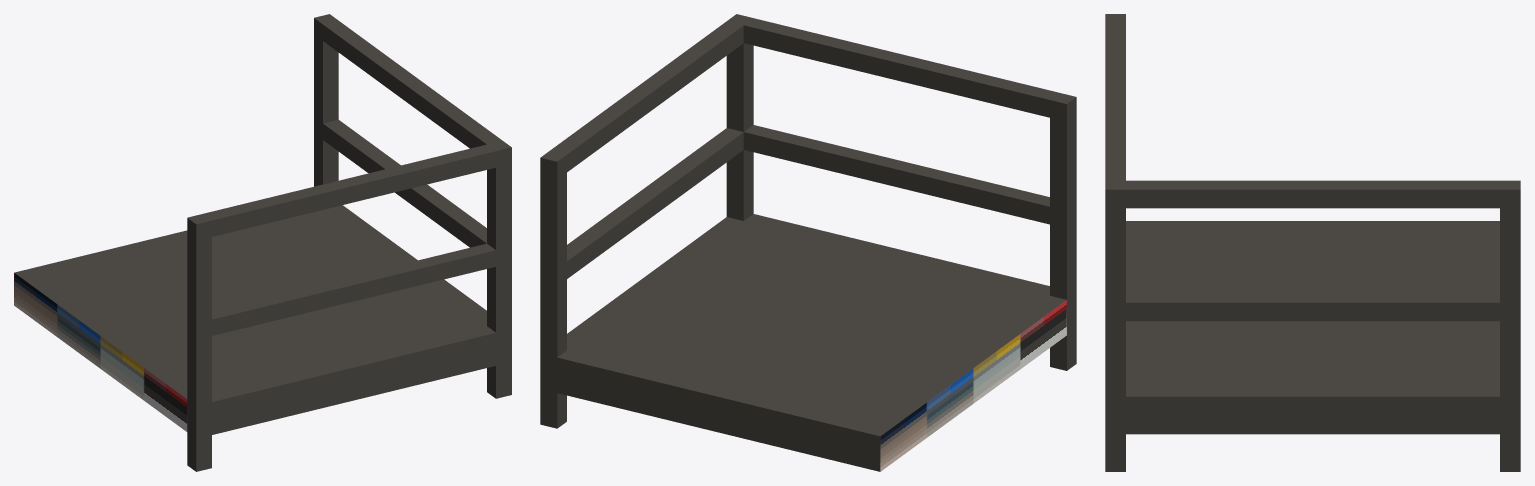
The model's file is DarkGreyMetalBridgeSmallIndustrialCatwalkCorner1.fbx.
The picture shows the model from 3 angles, left to right: view 1: azimuth 30°, elevation 25°; view 2: azimuth 150°, elevation 25°; view 3: azimuth 270°, elevation 25°; orthographic projection. The views are drawn at different scales.
Visible parts, largest first — view 1: DarkGreyMetalBridgeSmallIndustrialCatwalkCorner1; view 2: DarkGreyMetalBridgeSmallIndustrialCatwalkCorner1; view 3: DarkGreyMetalBridgeSmallIndustrialCatwalkCorner1.
Part boxes in pixels (<box>): DarkGreyMetalBridgeSmallIndustrialCatwalkCorner1: <box>14,14,511,471</box>; DarkGreyMetalBridgeSmallIndustrialCatwalkCorner1: <box>540,14,1076,471</box>; DarkGreyMetalBridgeSmallIndustrialCatwalkCorner1: <box>1105,14,1520,471</box>.
Bounding box in the file's own units: 200 × 150 × 200.
